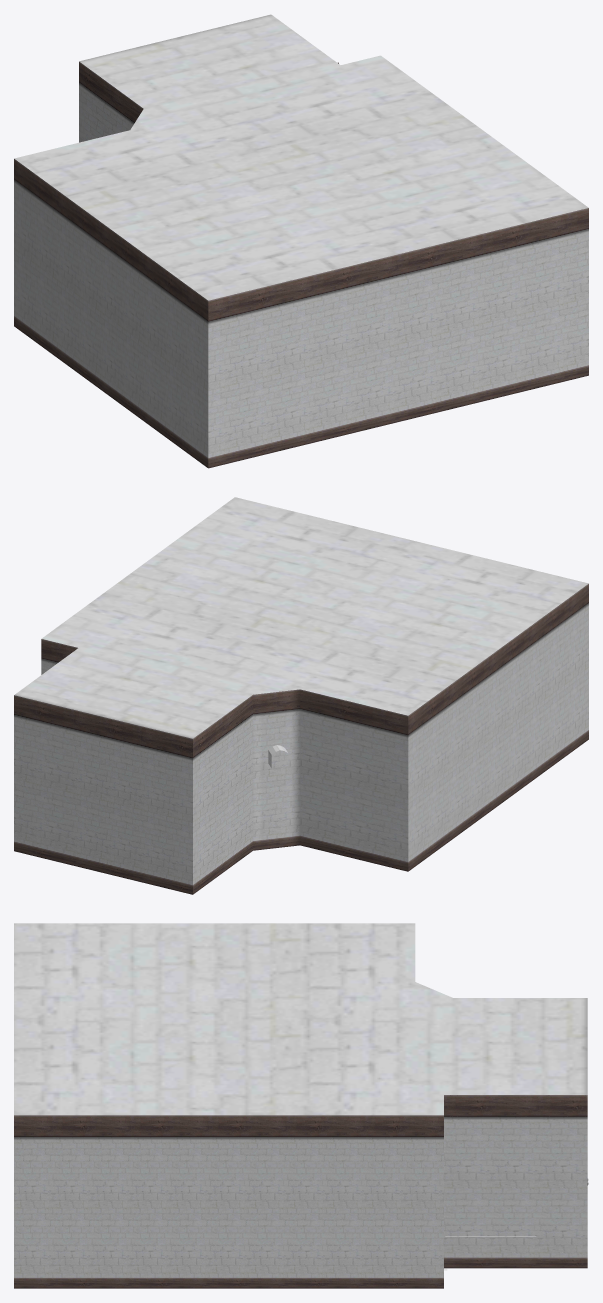
The model's file is F2_Shop_Accessories.dae.
3 views of the same model, one above another, from view 1: azimuth 30°, elevation 25°; view 2: azimuth 150°, elevation 25°; view 3: azimuth 270°, elevation 25° (orthographic). The views are drawn at different scales.
Visible parts, largest first — view 1: vsn_mesh_6_polySurface1334; view 2: vsn_mesh_6_polySurface1334; view 3: vsn_mesh_6_polySurface1334.
Part boxes in pixels (x1=…): vsn_mesh_6_polySurface1334: x1=14, y1=14, x2=588, y2=468; vsn_mesh_6_polySurface1334: x1=14, y1=497, x2=588, y2=894; vsn_mesh_6_polySurface1334: x1=14, y1=923, x2=587, y2=1288.
Bounding box in the file's own units: 47.5 × 20 × 60.16.
Materials: 14 (11 with a texture image).
